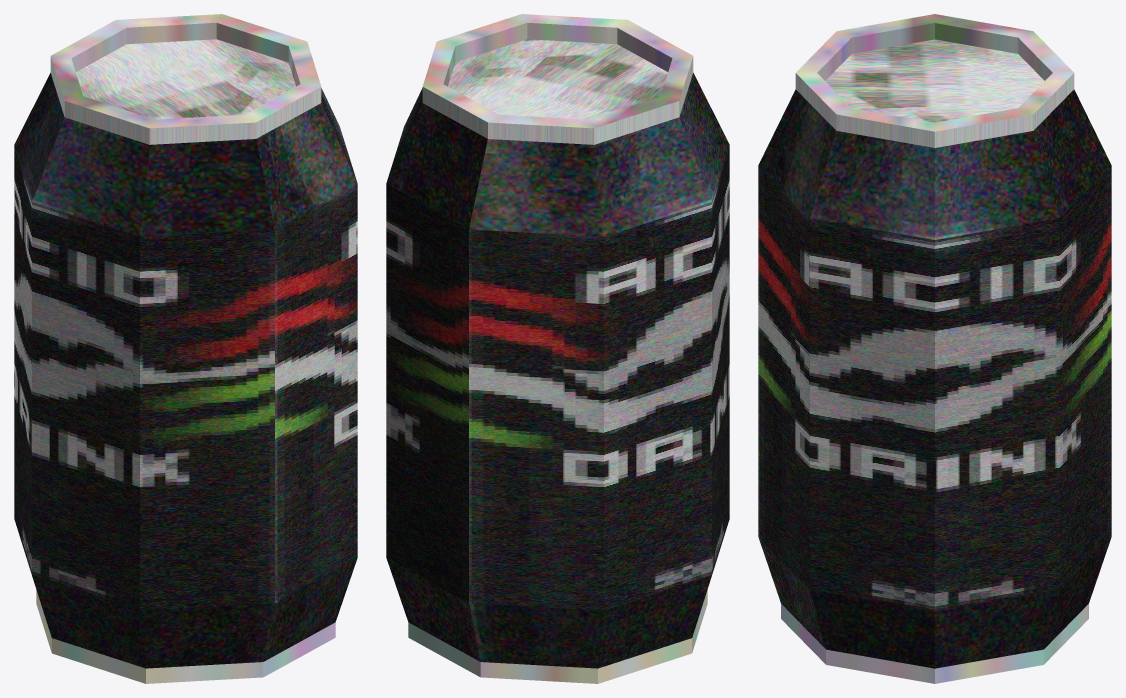
Rendered from acid_black.fbx.
3 renders of one model, left to right at view 1: azimuth 30°, elevation 25°; view 2: azimuth 150°, elevation 25°; view 3: azimuth 270°, elevation 25°, orthographic.
Parts seen in each view (by area): view 1: bottel01; view 2: bottel01; view 3: bottel01.
Part boxes in pixels (x1=…): bottel01: x1=14, y1=14, x2=357, y2=683; bottel01: x1=386, y1=14, x2=729, y2=683; bottel01: x1=758, y1=14, x2=1111, y2=683.
Size of the model in its own units: 15.84 by 27.02 by 15.84.
